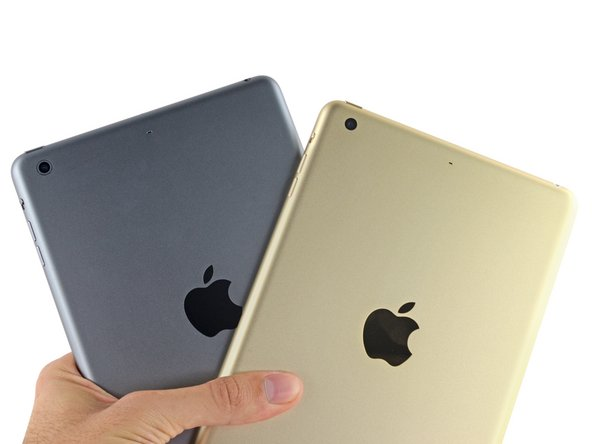apple: (355, 284, 432, 374), (174, 261, 255, 337)
